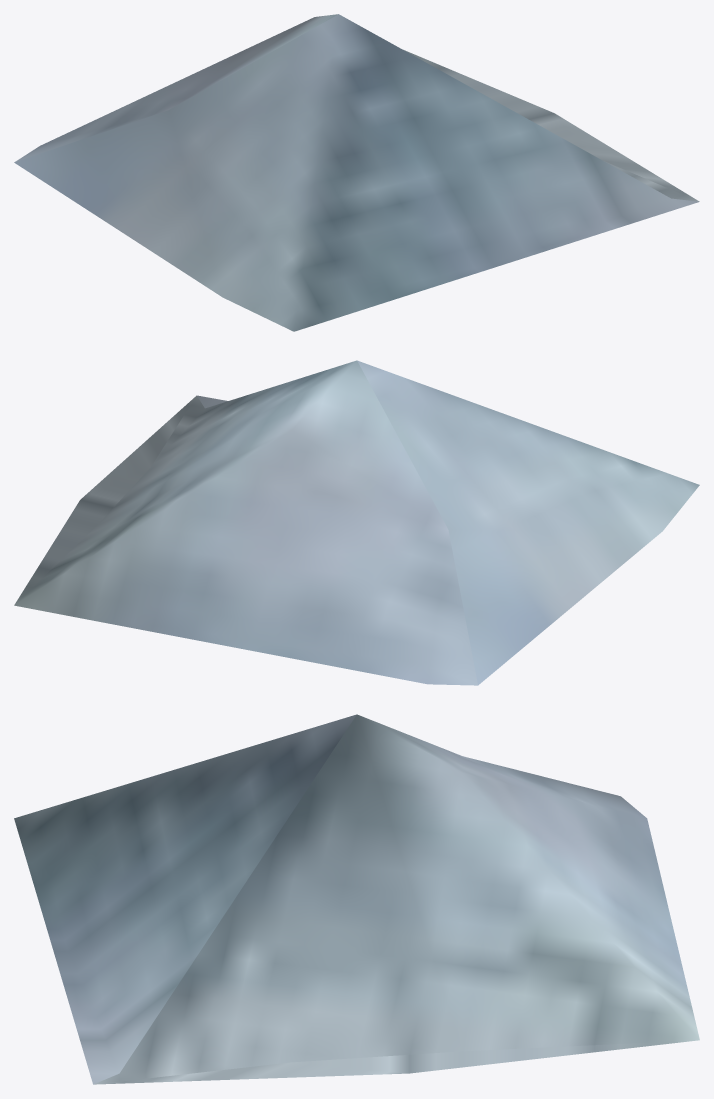
The picture shows the model from 3 angles, top to bottom: view 1: azimuth 30°, elevation 25°; view 2: azimuth 150°, elevation 25°; view 3: azimuth 270°, elevation 25°; orthographic projection. The views are drawn at different scales.
Parts seen in each view (by area): view 1: 30436272704361405651_0; view 2: 30436272704361405651_0; view 3: 30436272704361405651_0.
Boxes of the visible parts, <box> form: 30436272704361405651_0: <box>14,14,699,331</box>; 30436272704361405651_0: <box>14,360,699,685</box>; 30436272704361405651_0: <box>14,714,699,1084</box>.
Bounding box in the file's own units: 3.99 × 1.39 × 4.01.
1 material, 1 textured.
